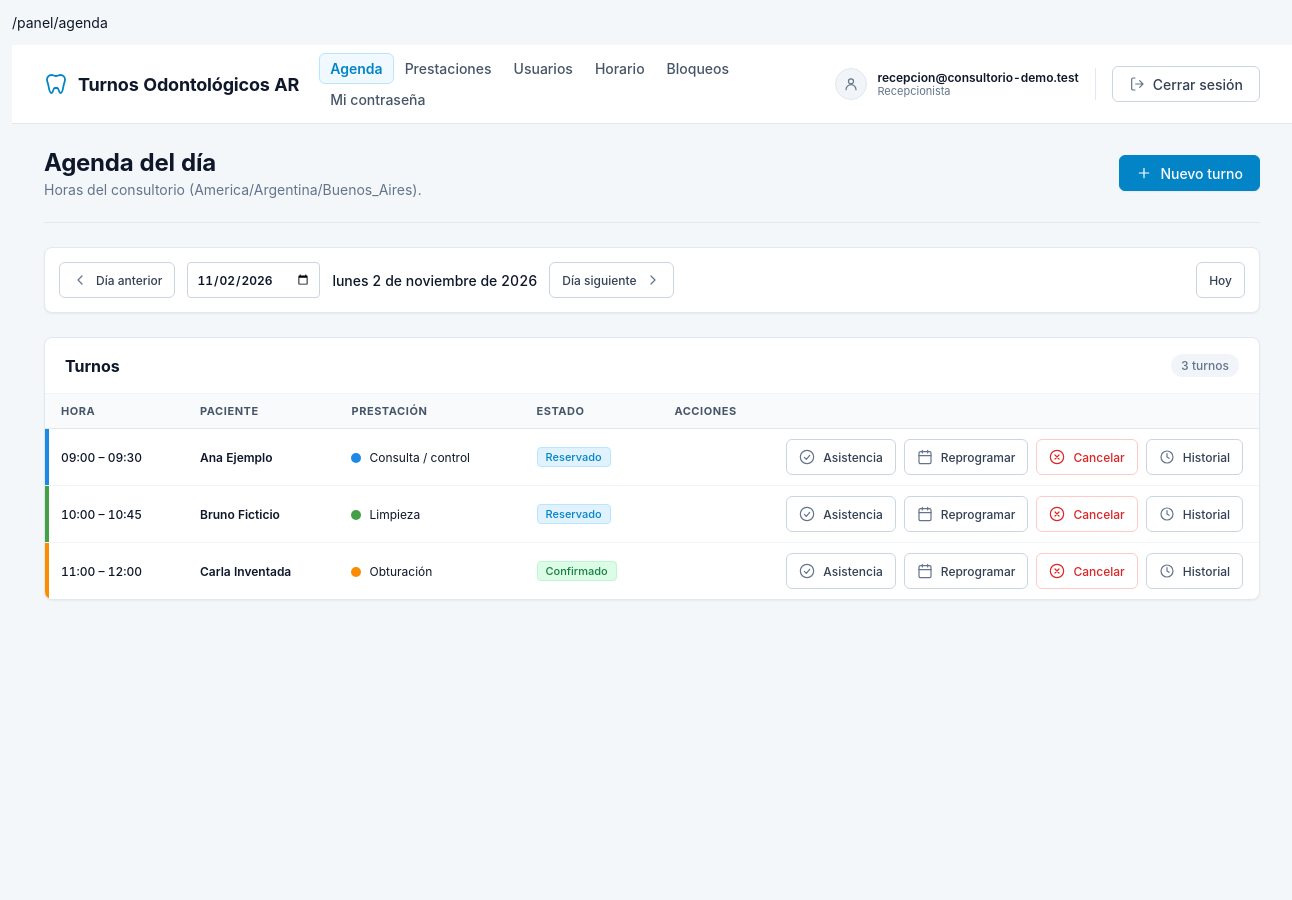
Scenario: PanelCancelar: bordes › CAN-4c: un solo panel entre Cancelar y Reprogramar
Expected: the text "lunes 2 de noviembre de 2026" is shown, [332,272,537,288]
Click the button with aria-label "Cancelar el turno de Ana Ejemplo, 09:00": (1087, 457) [1036,439,1138,475]
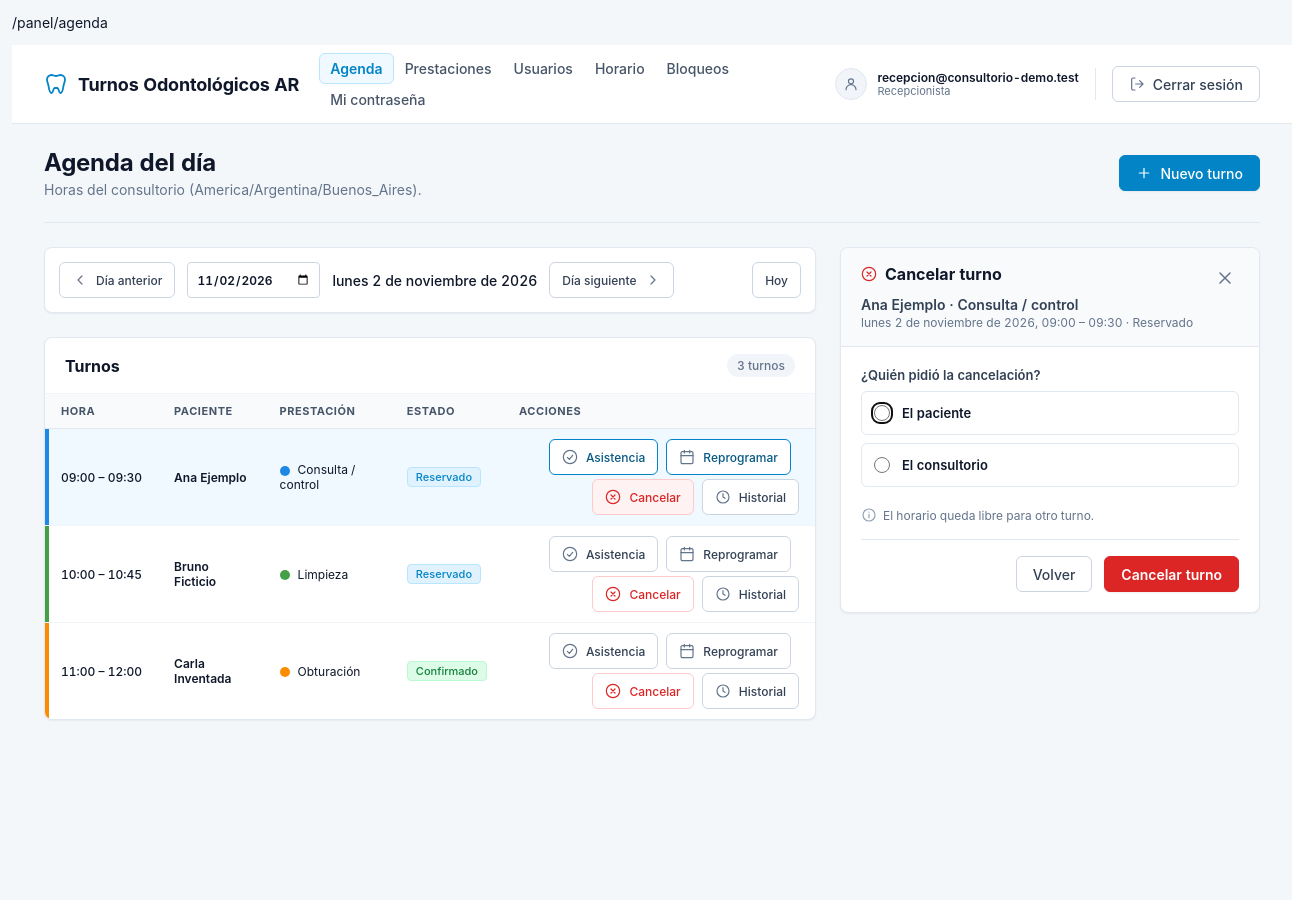
Click the button with aria-label "Reprogramar el turno de Ana Ejemplo, 09:00": (729, 457) [666,439,791,475]
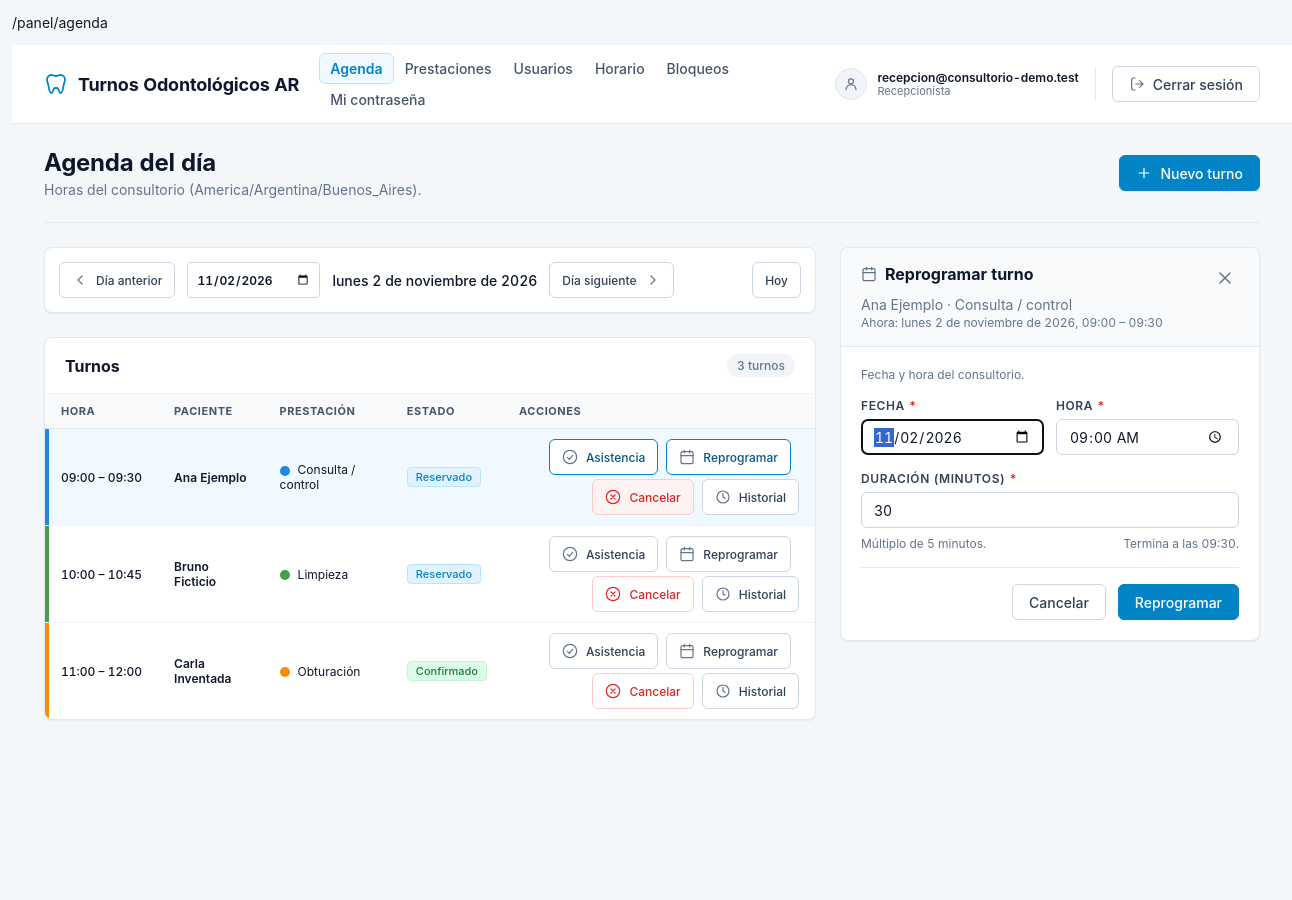
Now the element "Reprogramar turno" is shown, box [840,247,1260,641]
Now the heading "Cancelar turno" is gone
Click the button with aria-label "Cancelar el turno de Bruno Ficticio, 10:00": (643, 594) [592,576,694,612]
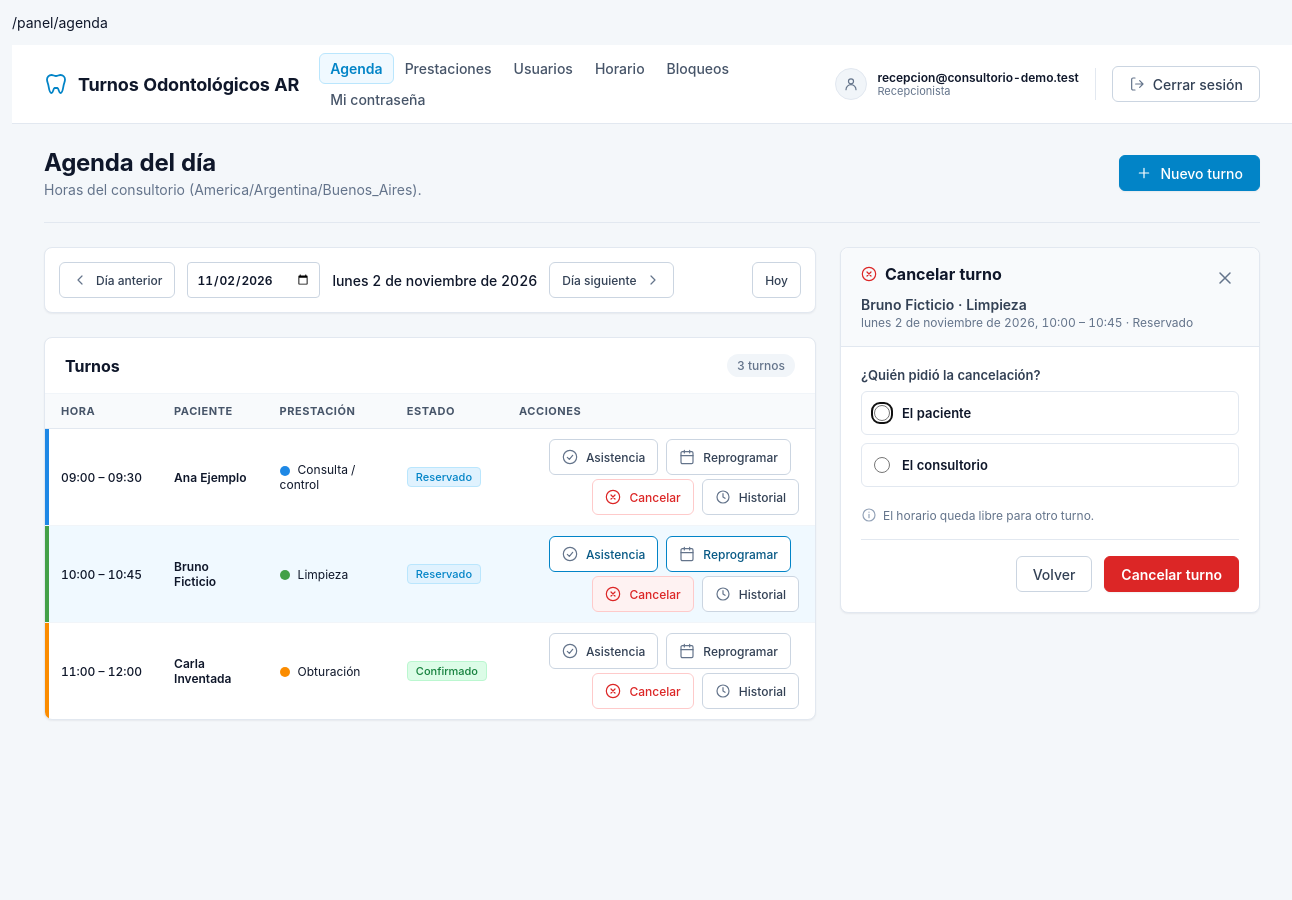
Expected: the row with class "fila-seleccionada" shows "Bruno Ficticio", [45,526,815,622]
Now the heading "Reprogramar turno" is gone
